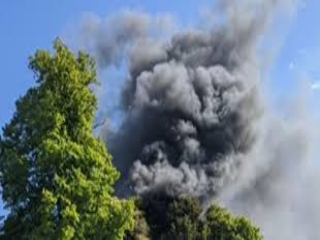smoke: (115, 16, 272, 207)
